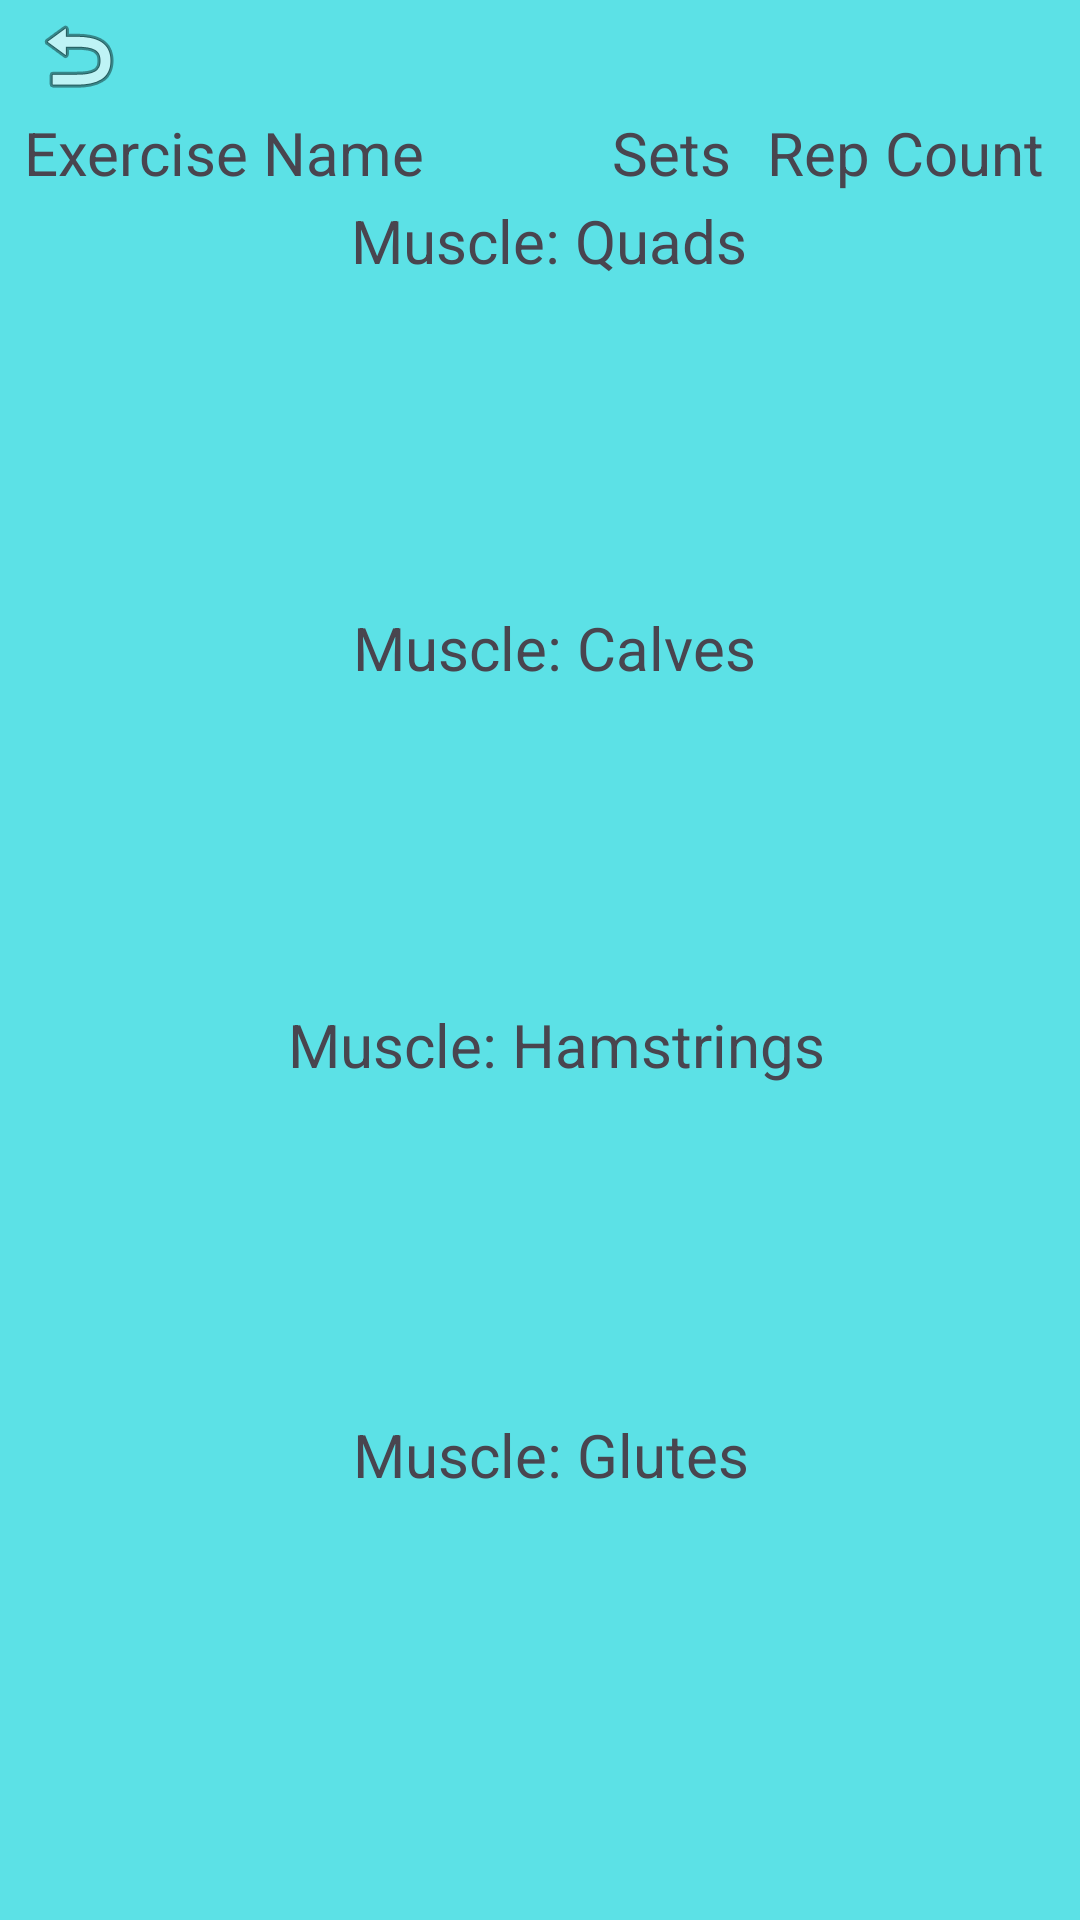

Point at icon controls on the screen. Image size 1080*1920, points as [x,y].
revert: [79,56]
